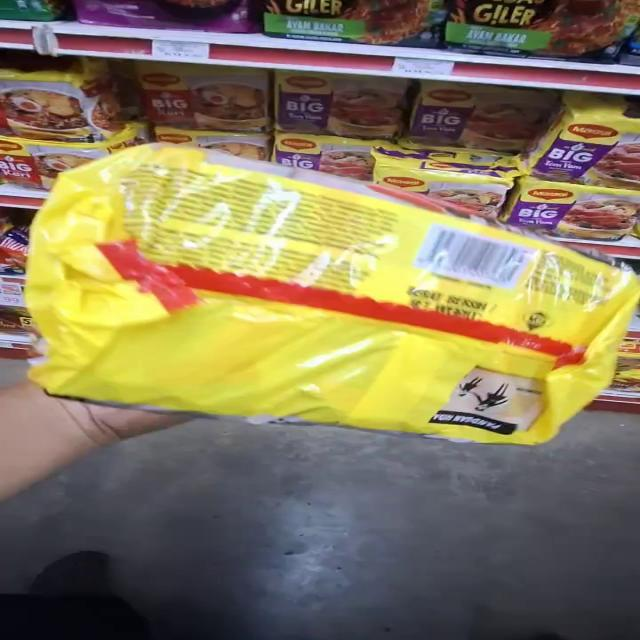Maggi: (34, 151, 619, 457)
